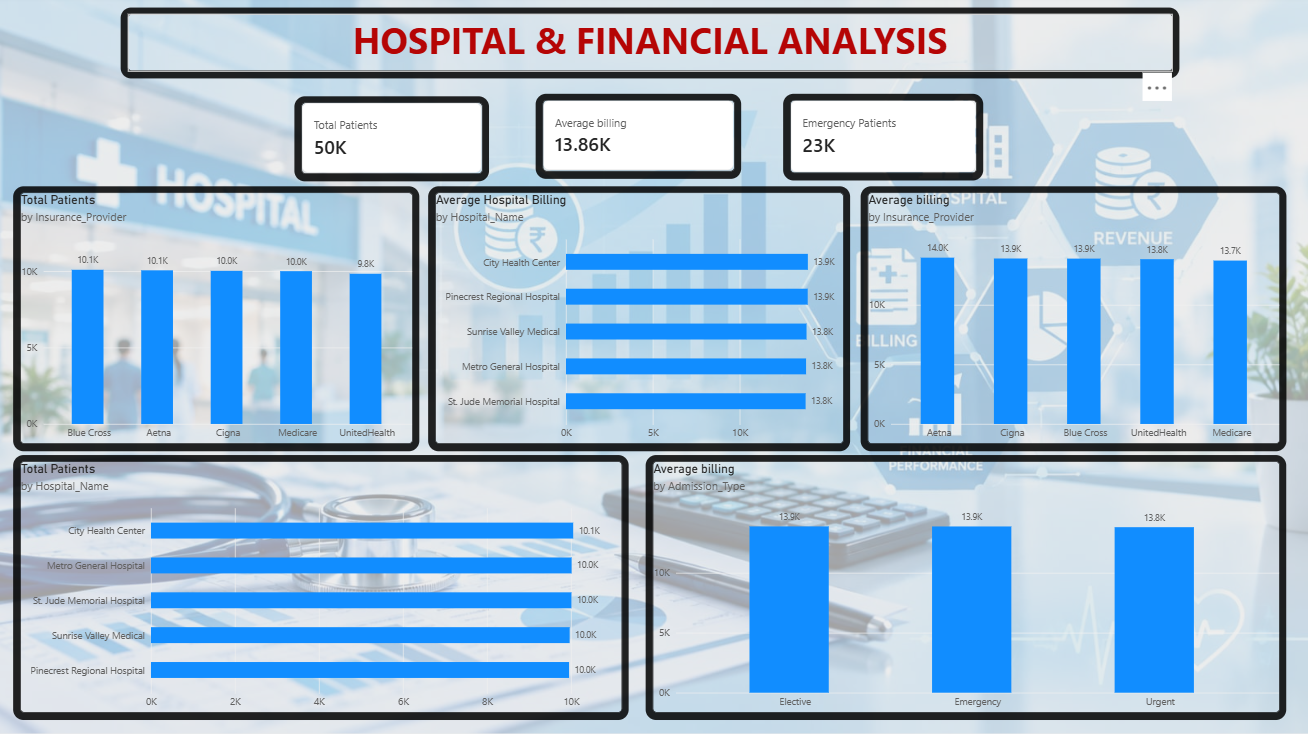

The page's visual inventory and layout, read from the dashboard file:
{"tool":"powerbi","page":{"name":"Hospital & Financial Analysis","canvas":[1920,1080],"ordinal":1},"visuals":[{"type":"barChart","fields":{"Category":["healthcare.Hospital_Name"],"Y":["healthcare.Total Patients"]},"box":[30.9,677.2,883,368.4],"z":0},{"type":"barChart","fields":{"Category":["healthcare.Hospital_Name"],"Y":["healthcare.Average Hospital Billing"]},"box":[640.1,282,599,368.4],"z":1000},{"type":"columnChart","fields":{"Category":["healthcare.Insurance_Provider"],"Y":["healthcare.Total Patients"]},"box":[30.9,282,576.3,368.4],"z":2000},{"type":"columnChart","fields":{"Category":["healthcare.Insurance_Provider"],"Y":["healthcare.Average billing"]},"box":[1274.1,282,605.1,368.4],"z":3000},{"type":"columnChart","fields":{"Category":["healthcare.Admission_Type"],"Y":["healthcare.Average billing"]},"box":[959.2,677.2,920.1,368.4],"z":4000},{"type":"cardVisual","fields":{"Data":["healthcare.Total Patients"]},"box":[444.6,150.3,265.5,105],"z":5000},{"type":"cardVisual","fields":{"Data":["healthcare.Average billing"]},"box":[798.6,146.1,282,105],"z":6000},{"type":"cardVisual","fields":{"Data":["healthcare.Emergency Patients"]},"box":[1160.9,146.1,273.8,107],"z":7000},{"type":"textbox","box":[189.4,20.6,1533.5,84.4],"z":8000}]}

Visuals, with their boxes in screenshot pixels (x1, y1, x2, y2), scaled from the page's 1920x1080 canvas onto the 1308x734 screenshot:
barChart - healthcare.Hospital_Name x healthcare.Total Patients: bbox=(21, 460, 623, 711)
barChart - healthcare.Hospital_Name x healthcare.Average Hospital Billing: bbox=(436, 192, 844, 442)
columnChart - healthcare.Insurance_Provider x healthcare.Total Patients: bbox=(21, 192, 414, 442)
columnChart - healthcare.Insurance_Provider x healthcare.Average billing: bbox=(868, 192, 1280, 442)
columnChart - healthcare.Admission_Type x healthcare.Average billing: bbox=(653, 460, 1280, 711)
cardVisual - healthcare.Total Patients: bbox=(303, 102, 484, 174)
cardVisual - healthcare.Average billing: bbox=(544, 99, 736, 171)
cardVisual - healthcare.Emergency Patients: bbox=(791, 99, 977, 172)
textbox: bbox=(129, 14, 1174, 71)
